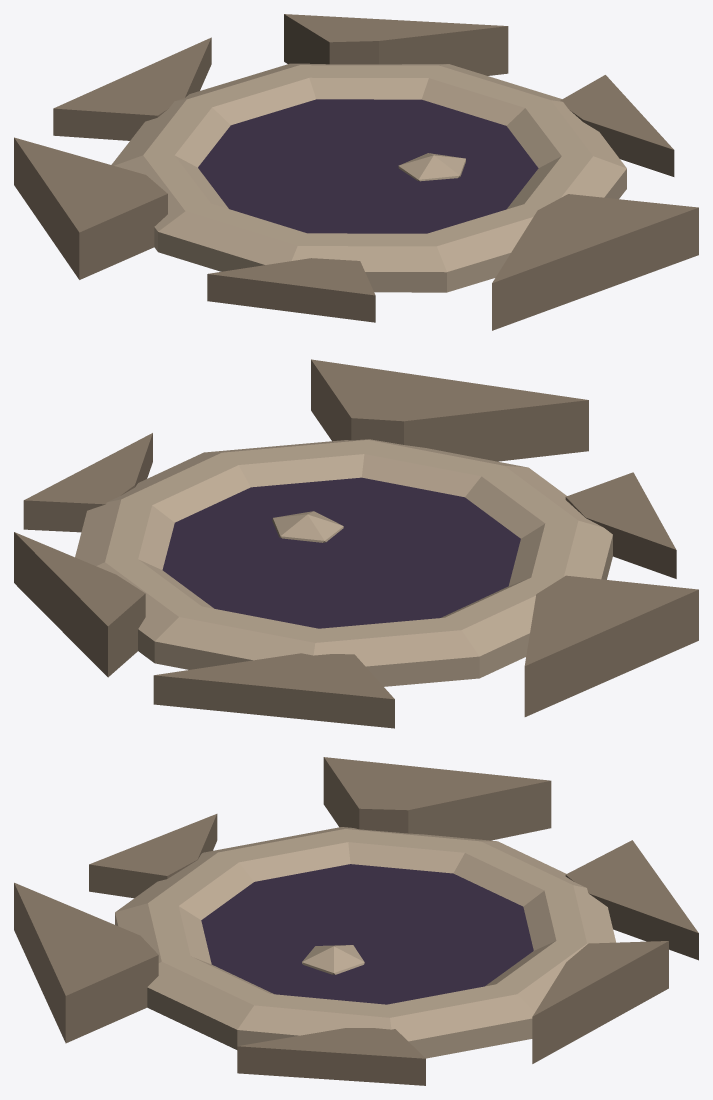
File: crater-s.glb
3 views of the same model, one above another, from view 1: azimuth 30°, elevation 25°; view 2: azimuth 150°, elevation 25°; view 3: azimuth 270°, elevation 25° (orthographic). The views are drawn at different scales.
Visible parts, largest first — view 1: crater-s; view 2: crater-s; view 3: crater-s.
Part boxes in pixels (x1=…): crater-s: x1=14, y1=14, x2=698, y2=330; crater-s: x1=14, y1=359, x2=698, y2=728; crater-s: x1=14, y1=757, x2=698, y2=1085.
Size of the model in its own units: 0.8887 by 0.0827 by 0.9143.
